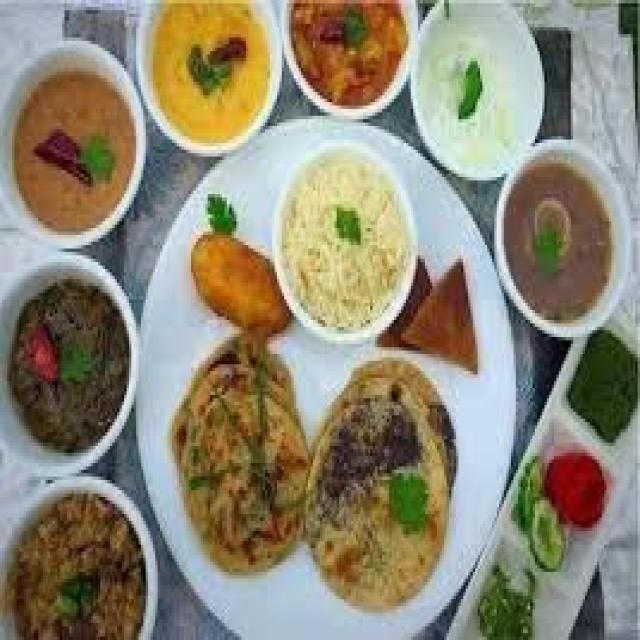dal: (313, 358, 455, 606), (281, 152, 408, 325), (142, 6, 275, 154)
sambar-rasam: (281, 0, 420, 115)
sweet: (3, 480, 159, 637), (6, 60, 140, 232), (6, 268, 136, 445), (412, 8, 545, 171)
veg-fry: (302, 350, 458, 607), (0, 482, 158, 637), (276, 0, 418, 115)
